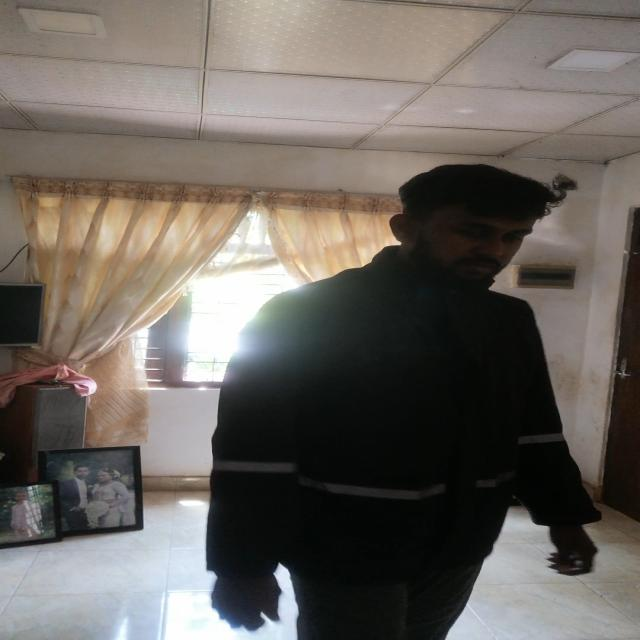Jacket_Wearer: (204, 251, 615, 607)
Person: (206, 154, 613, 640)
